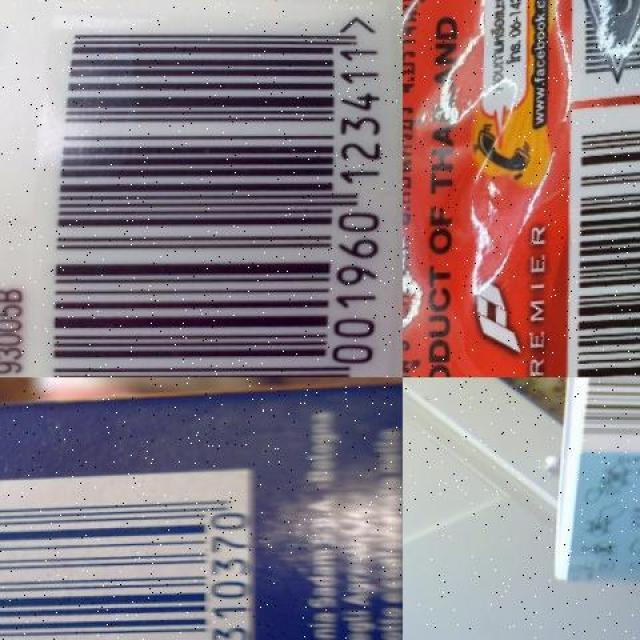Barcode: (26, 0, 402, 377), (0, 468, 255, 640), (560, 105, 640, 378)
